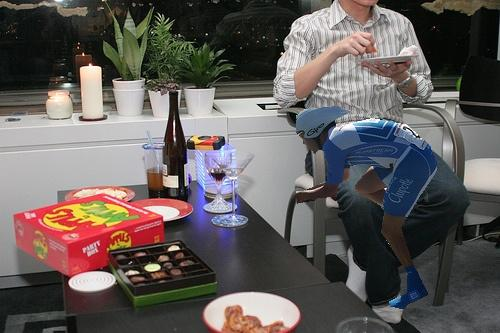tampered: (297, 107, 437, 309)
